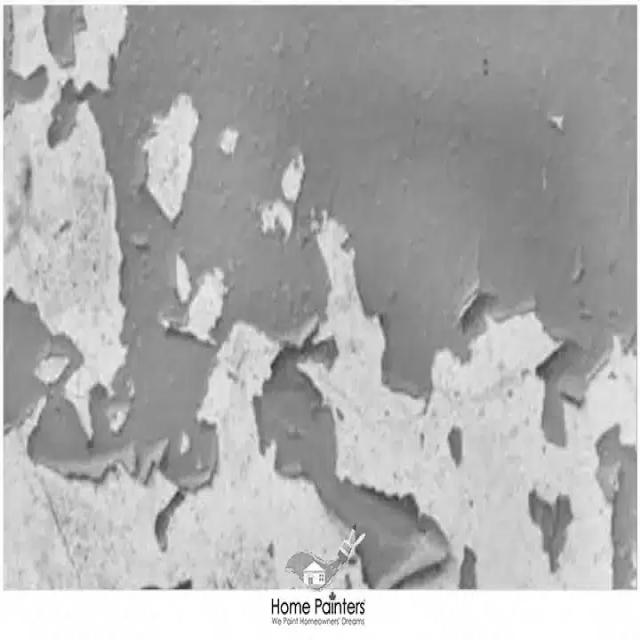peeling paint: (1, 9, 640, 592)
